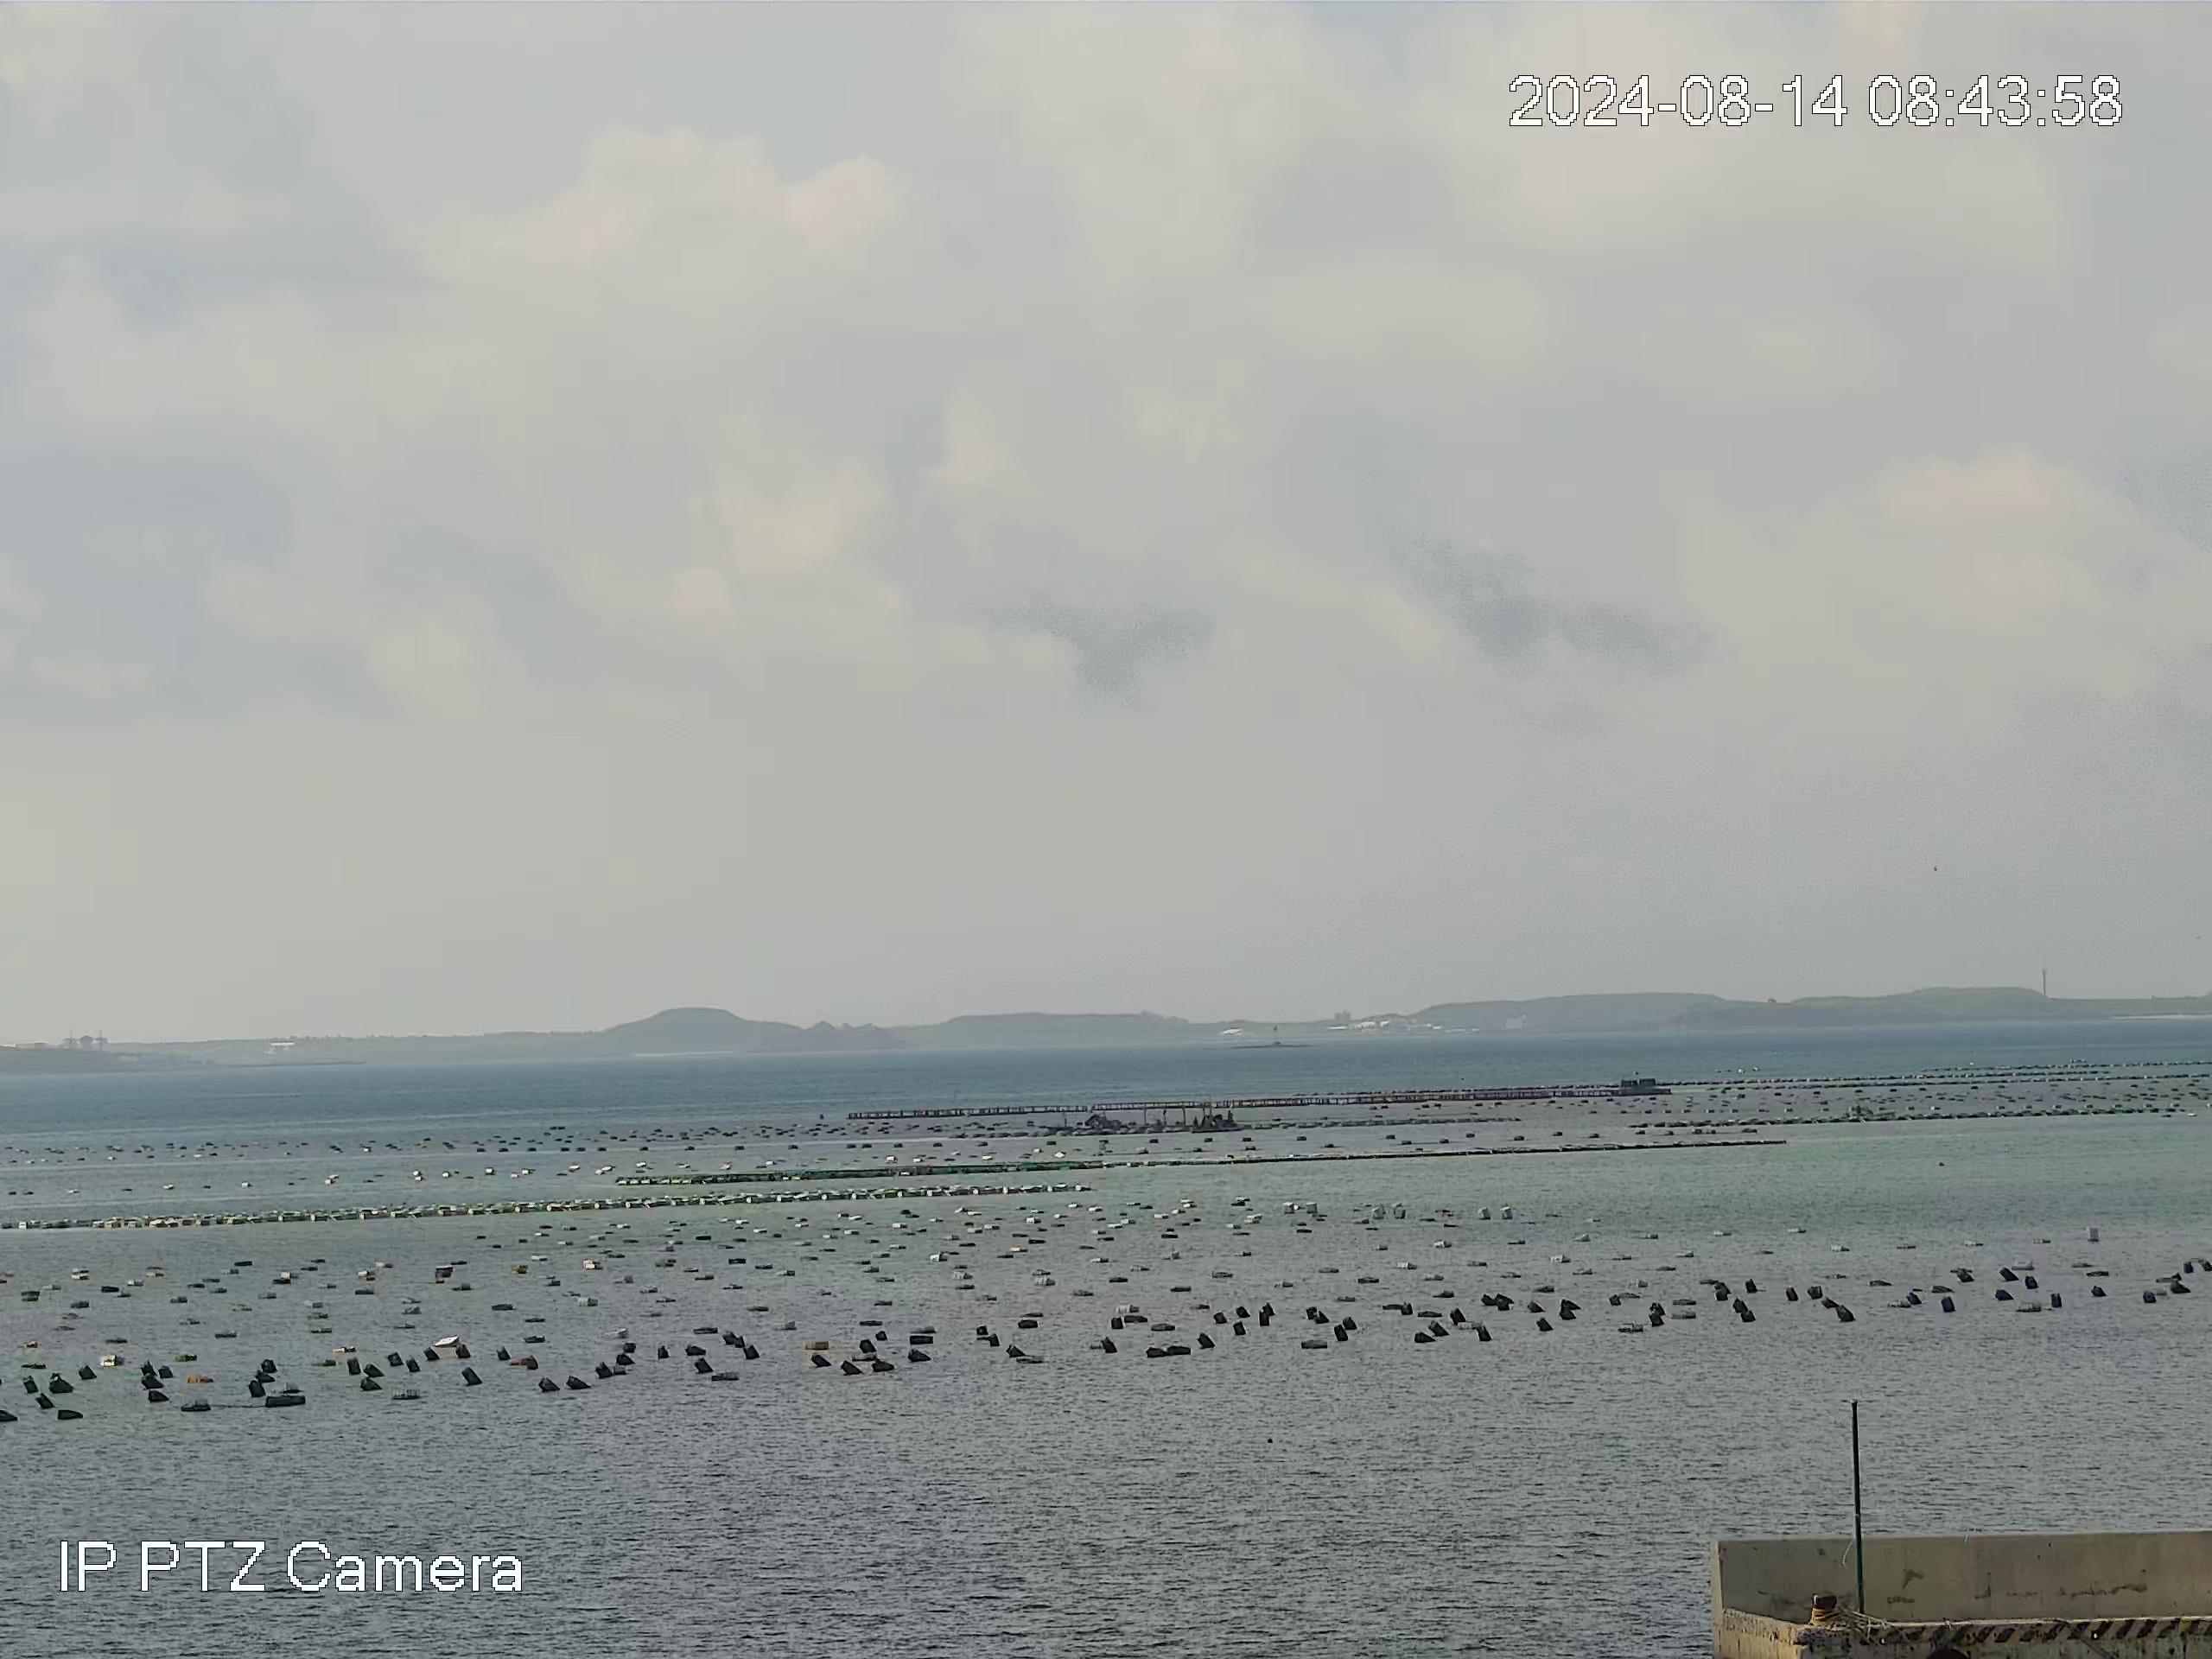boat: (1191, 1108, 1242, 1133)
